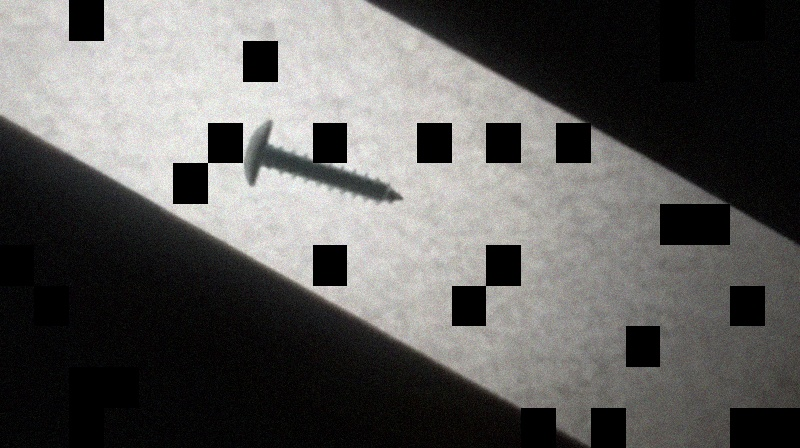S003: (239, 116, 409, 207)
